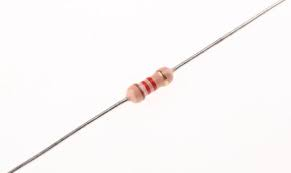resistor: (120, 56, 192, 116)
